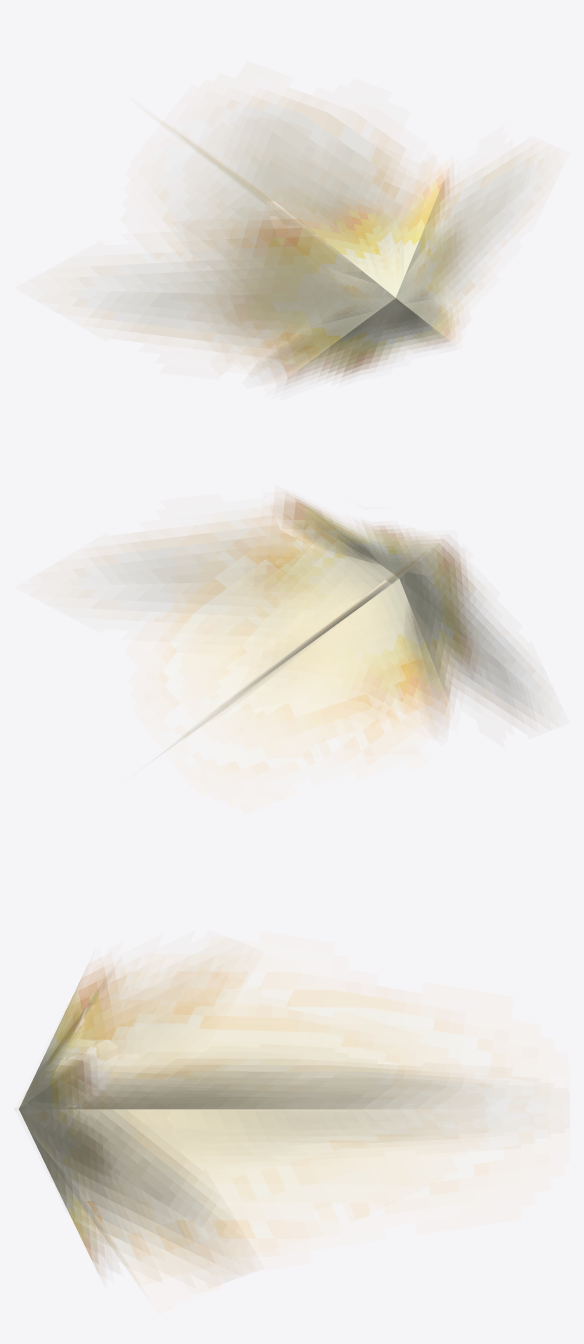
File: recovered_muzzle_flash.glb
The picture shows the model from 3 angles, top to bottom: view 1: azimuth 30°, elevation 25°; view 2: azimuth 150°, elevation 25°; view 3: azimuth 270°, elevation 25°; orthographic projection. The views are drawn at different scales.
Visible parts, largest first — view 1: muzzle_flash_m4, muzzle_flash_break, muzzle_flash_hider; view 2: muzzle_flash_m4, muzzle_flash_hider, muzzle_flash_break; view 3: muzzle_flash_m4, muzzle_flash_hider, muzzle_flash_break.
Part boxes in pixels (<box>): muzzle_flash_m4: <box>162,99,455,384</box>; muzzle_flash_break: <box>84,155,538,351</box>; muzzle_flash_hider: <box>218,164,444,371</box>; muzzle_flash_m4: <box>163,494,472,768</box>; muzzle_flash_hider: <box>226,512,445,726</box>; muzzle_flash_break: <box>84,524,538,719</box>; muzzle_flash_m4: <box>19,967,535,1272</box>; muzzle_flash_hider: <box>14,985,432,1285</box>; muzzle_flash_break: <box>32,963,219,1255</box>.
Bounding box in the file's own units: 0.9688 × 0.4313 × 0.7188.
4 materials, 4 textured.
